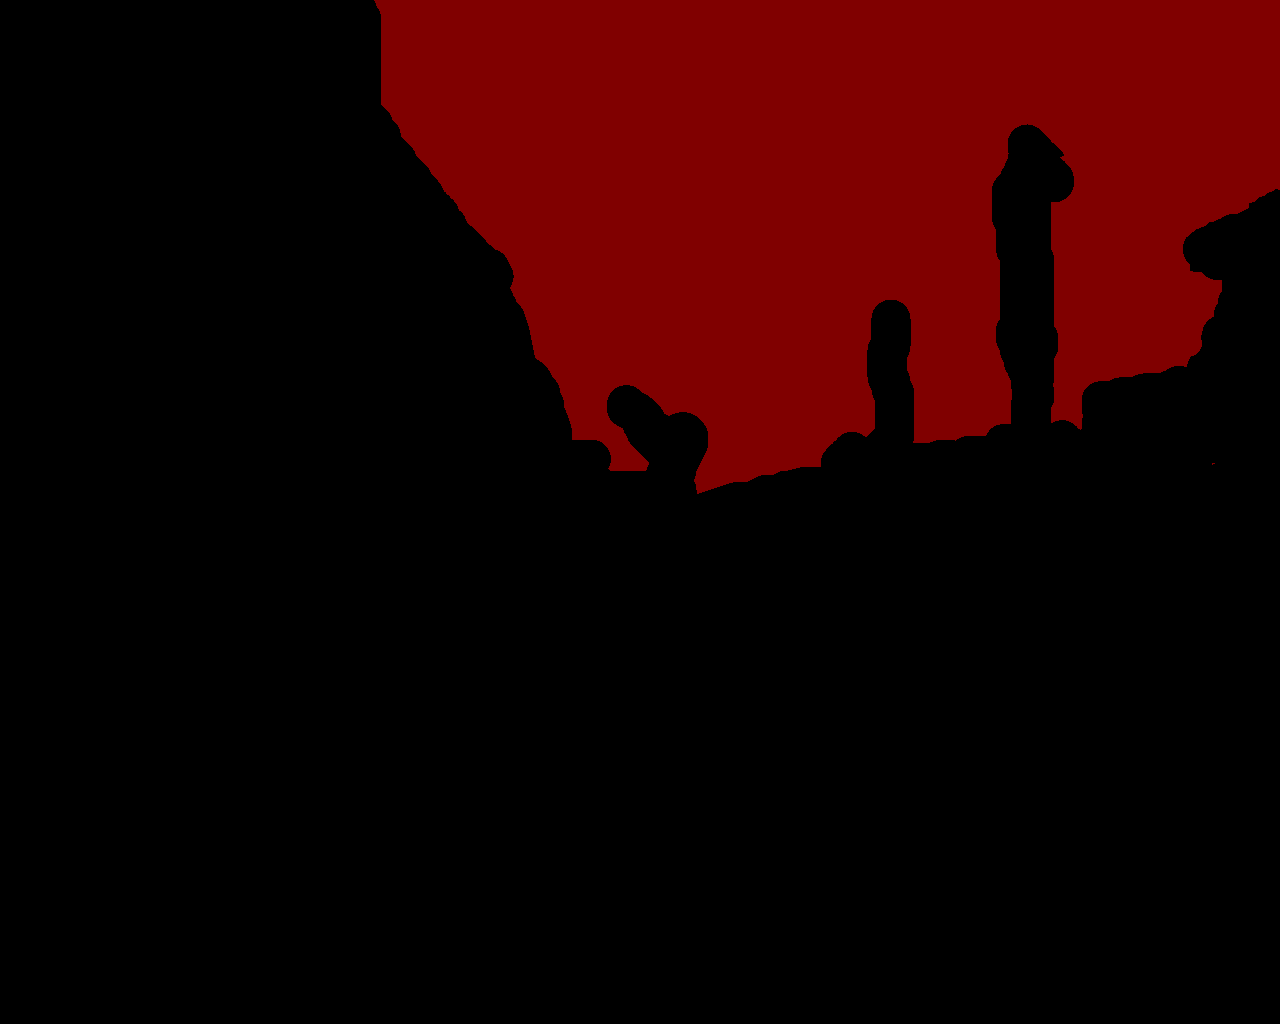Sky: (375, 1, 1279, 494)
